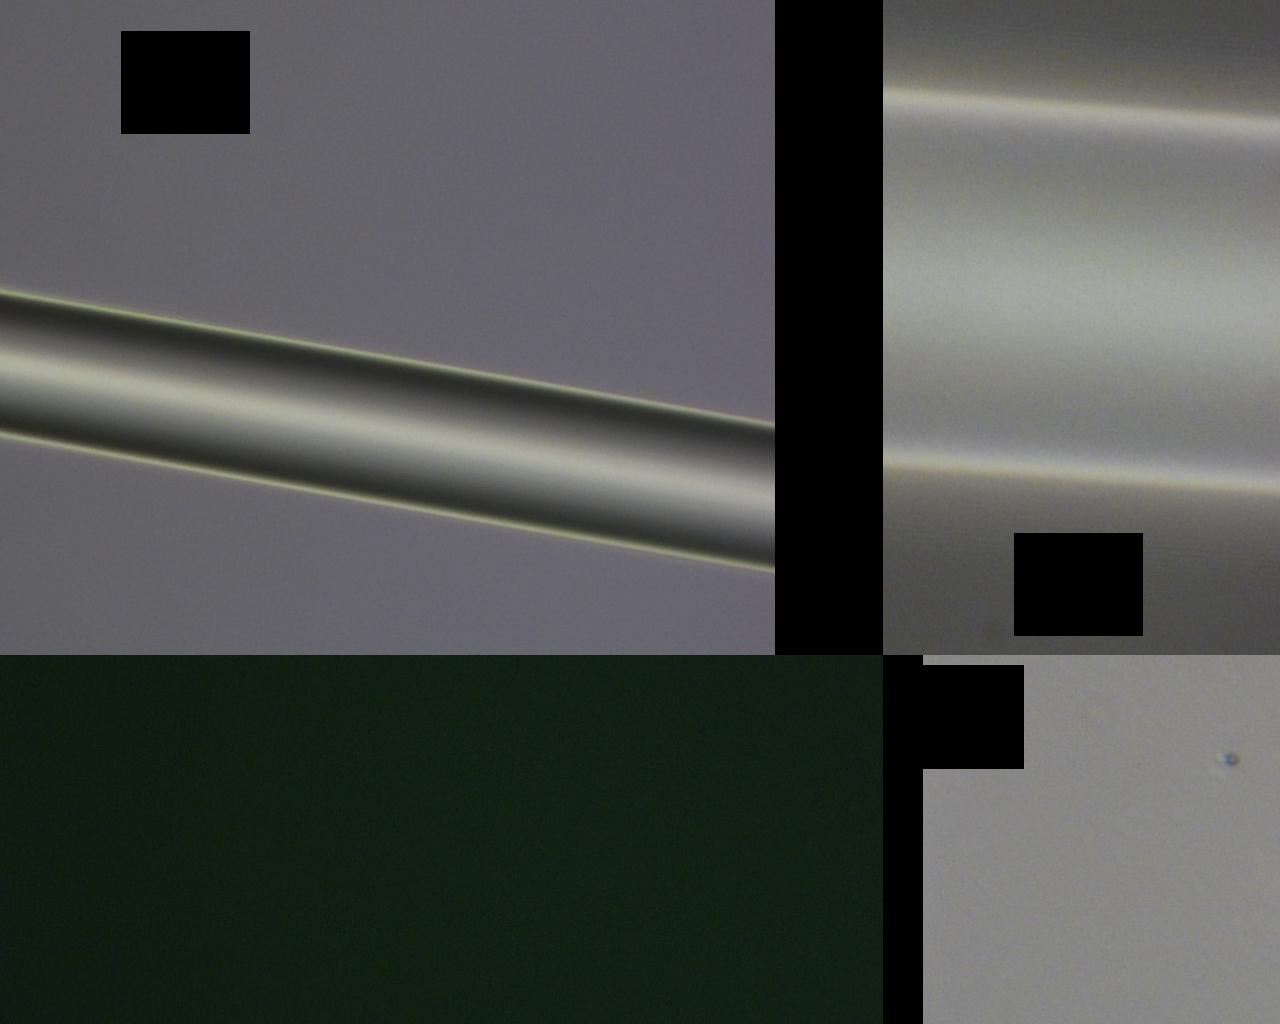fiber: (691, 0, 834, 1024)
